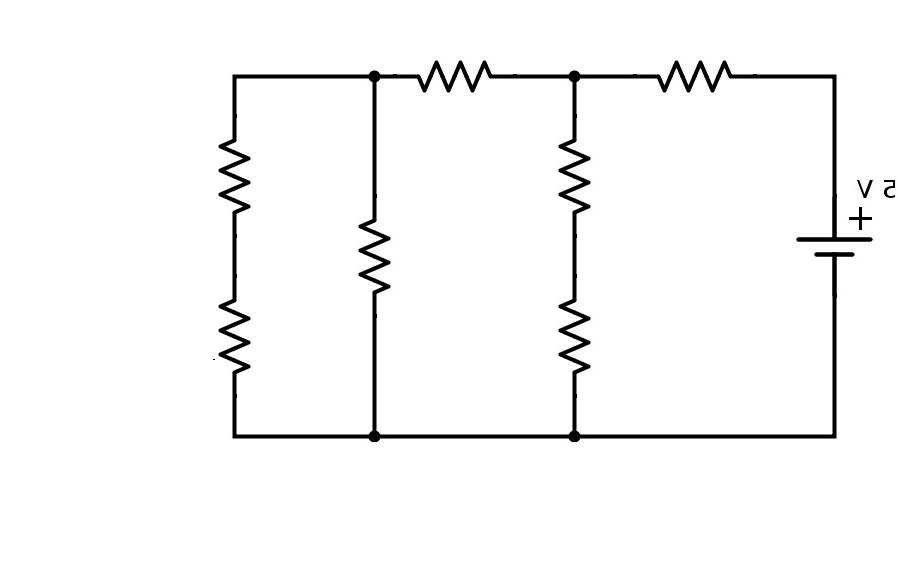resistor: (342, 185, 427, 321), (530, 270, 608, 393), (541, 108, 613, 237), (195, 108, 260, 235), (642, 32, 760, 98), (197, 275, 260, 388)
